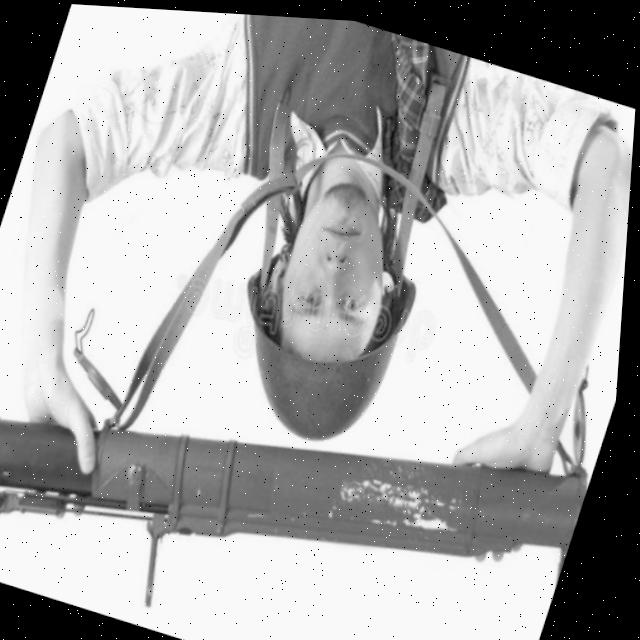rocket: (0, 276, 609, 640)
